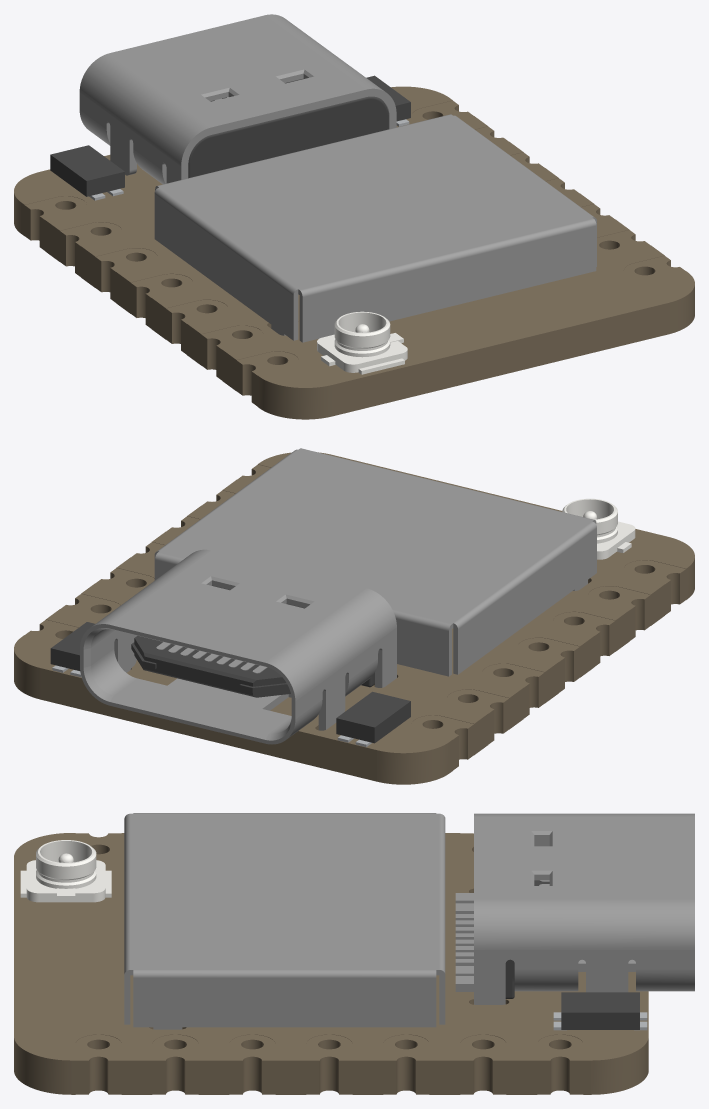
The model's file is xiao.glb.
3 views of the same model, one above another, from view 1: azimuth 30°, elevation 25°; view 2: azimuth 150°, elevation 25°; view 3: azimuth 270°, elevation 25° (orthographic). The views are drawn at different scales.
Parts seen in each view (by area): view 1: xiao / Imported CAD; view 2: xiao / Imported CAD; view 3: xiao / Imported CAD.
Part boxes in pixels (x1,y1,x2,y2): xiao / Imported CAD: [14, 14, 694, 419]; xiao / Imported CAD: [14, 448, 694, 784]; xiao / Imported CAD: [14, 813, 694, 1094].
Size of the model in its own units: 17.78 by 4.46 by 22.48.
